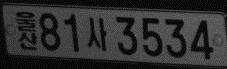1: (62, 12, 83, 52)
3: (115, 15, 138, 55), (165, 18, 187, 58)
4: (191, 19, 213, 60)
5: (142, 16, 163, 57)
8: (39, 12, 60, 51)
사: (87, 17, 108, 51)
울산_V: (15, 9, 38, 51)
